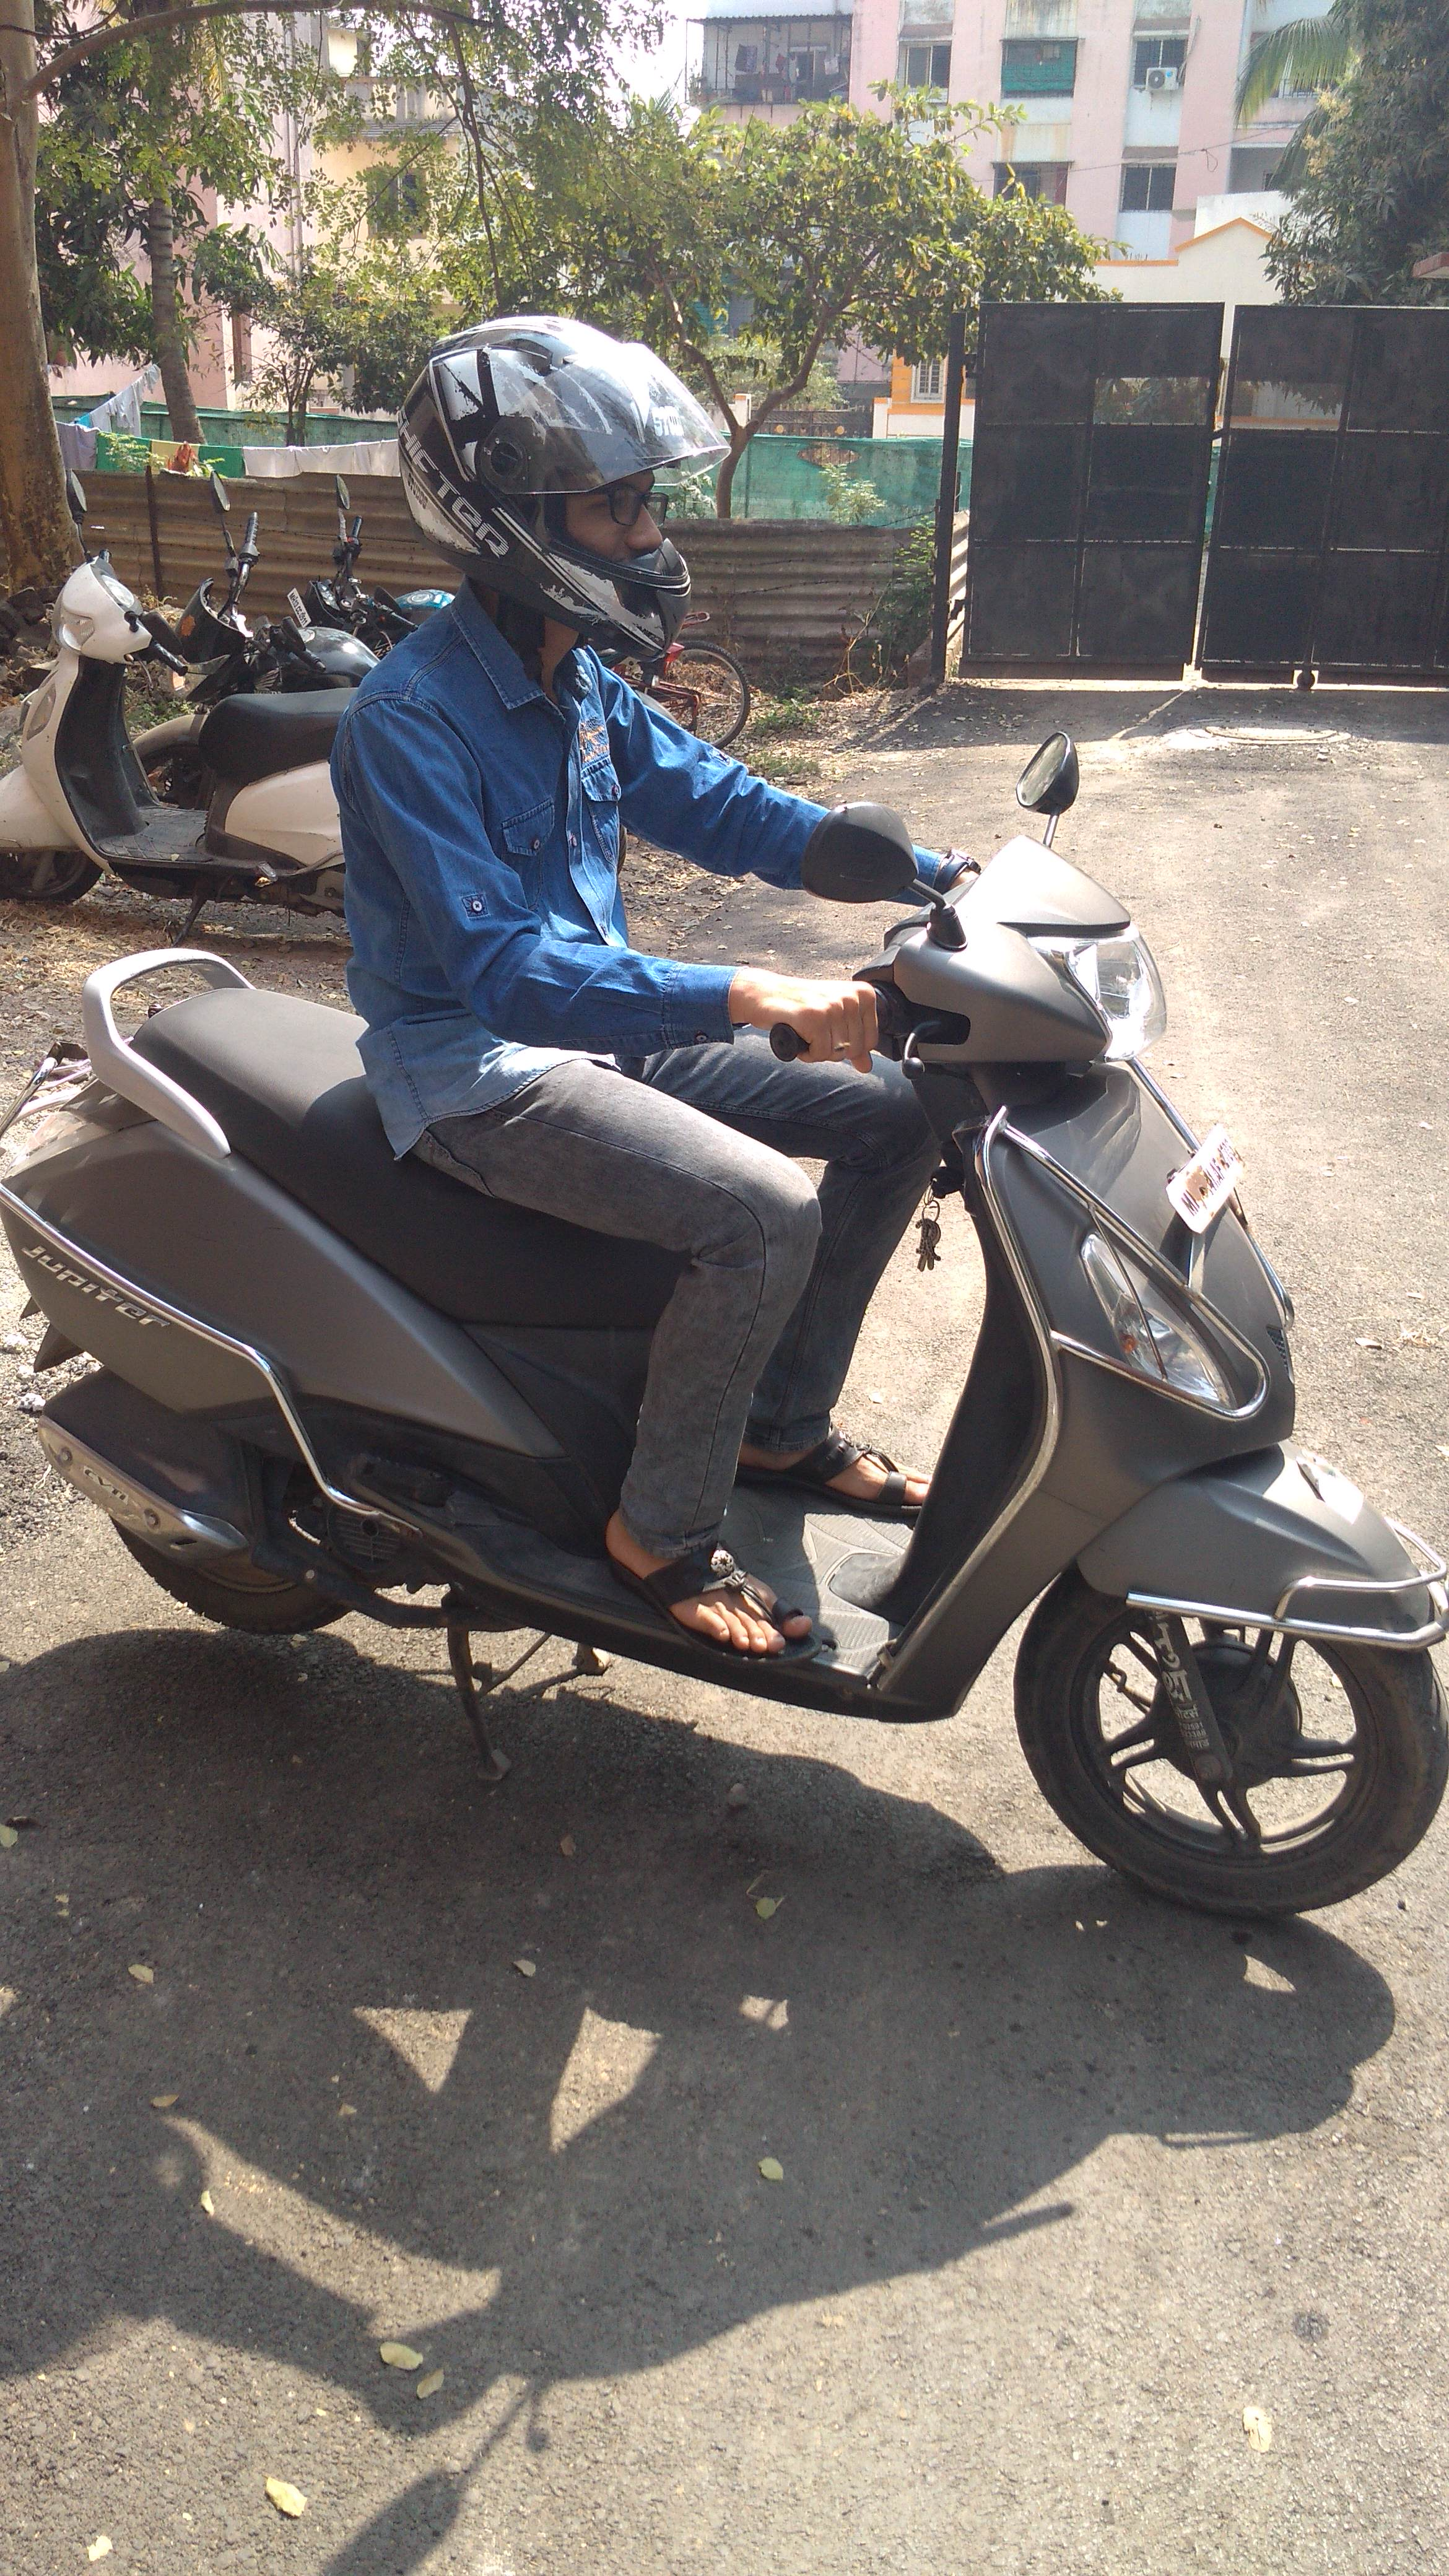helmet: (255, 313, 1039, 1737)
